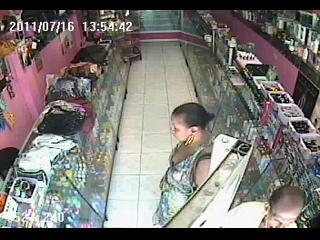Normal: (151, 102, 215, 227), (217, 186, 308, 228)
